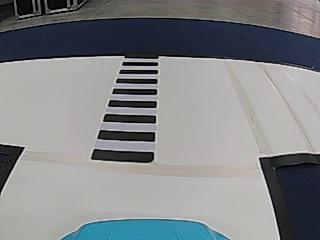CrossWalk: (87, 52, 161, 168)
